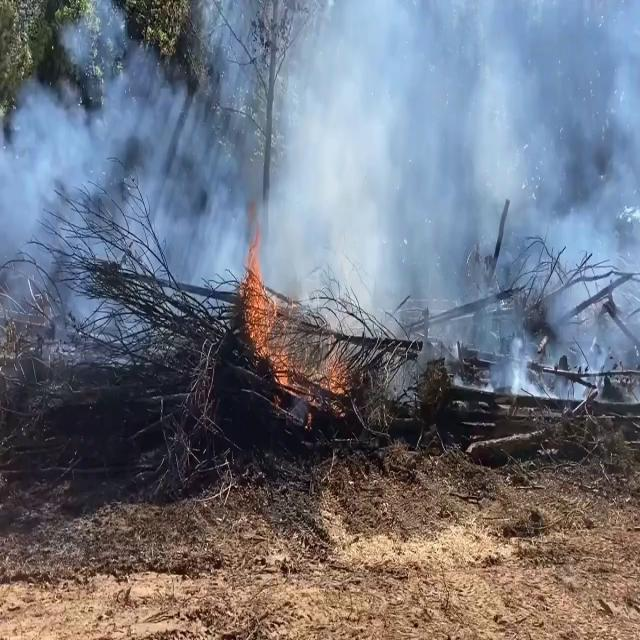Fire: (240, 239, 291, 398)
Smoke: (3, 0, 640, 353)
